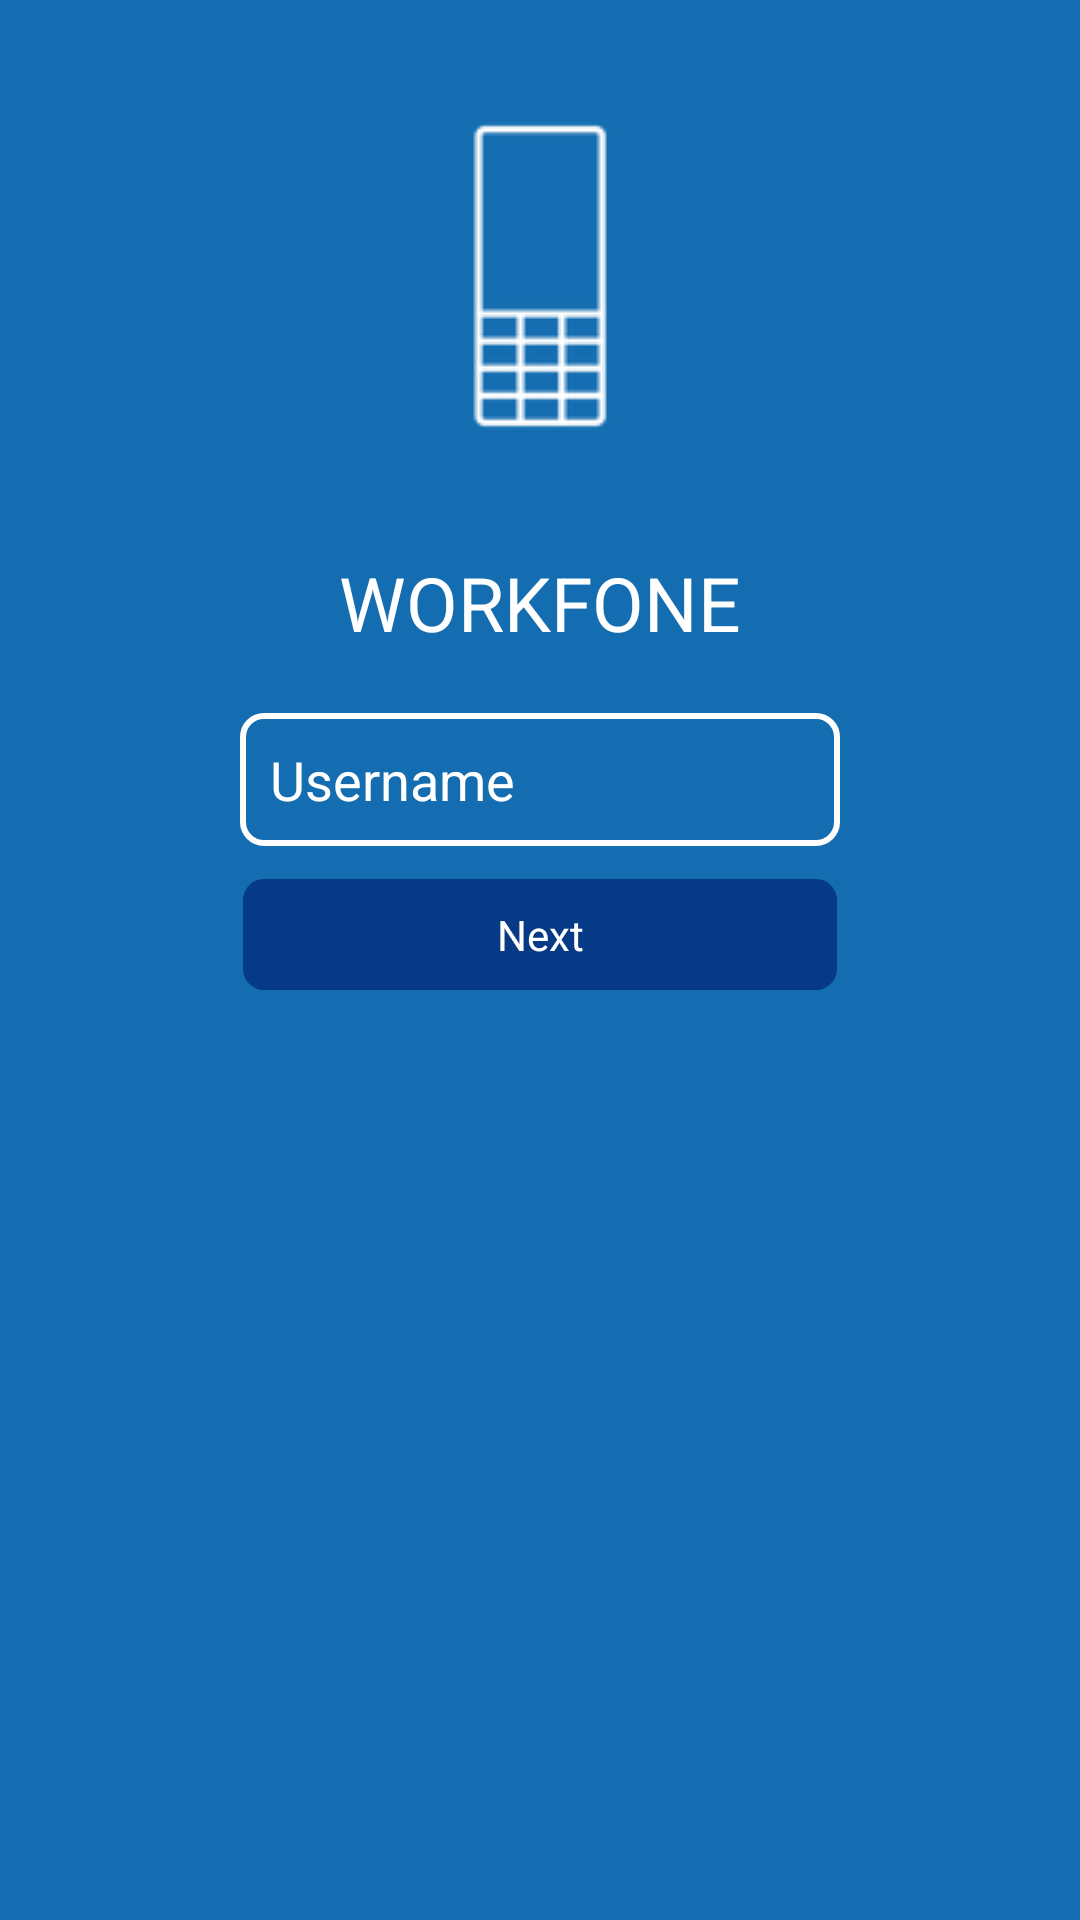

Icons on this 1080×1920 Android screen, each with its box as {"x1": x1, "y1": y1, "x2": x2, "y2": y2}:
burnericon main: {"x1": 473, "y1": 125, "x2": 607, "y2": 427}
